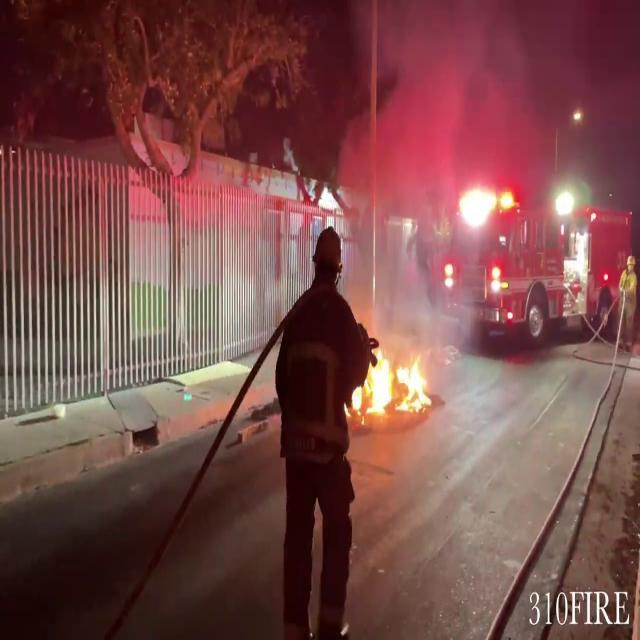Fire: (350, 333, 432, 421)
Smoke: (339, 5, 473, 348)
